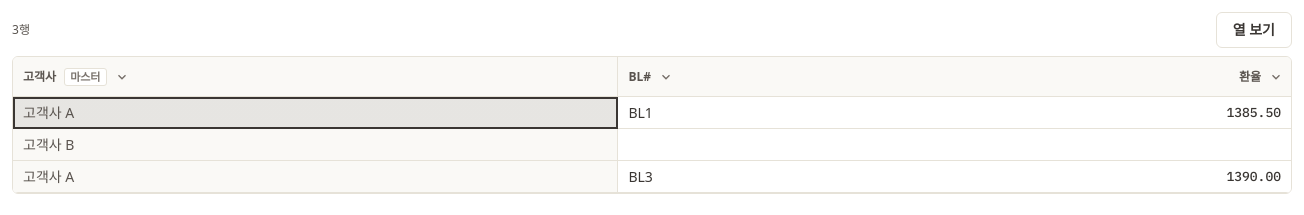
읽을 수 없는 값이면 저장하지 않고 이유를 보여줘요. Esc는 취소예요
Double-click the cell "1385.50" at (1108, 113), box [925,97,1291,129]
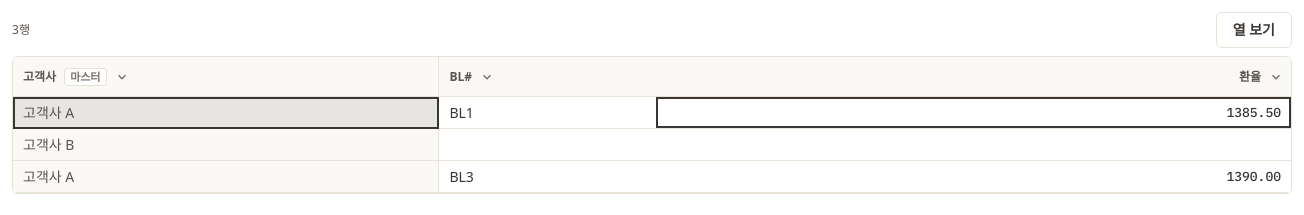
Replace the text in the field named "환율" with "많이" at (973, 112), box [656,97,1291,128]
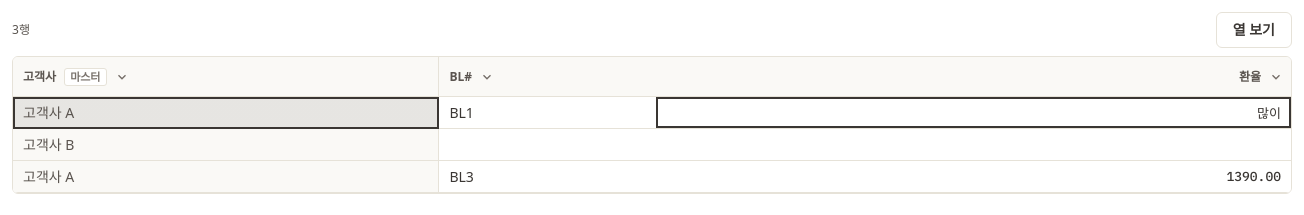
Press Enter in the field named "환율", box [656,97,1291,128]
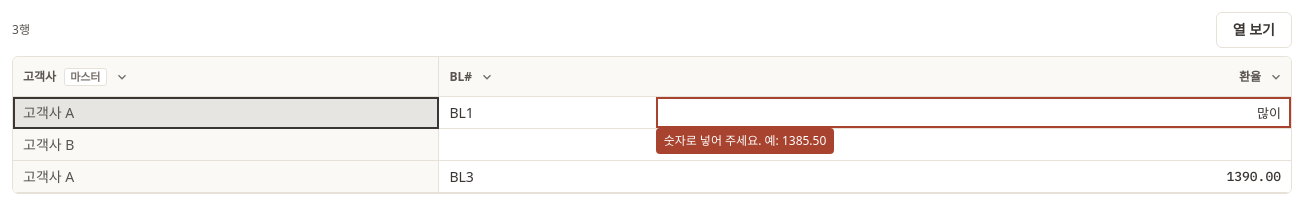
Expected: the message shows "숫자로 넣어 주세요", [664,132,826,149]
Press Escape in the field named "환율", box [656,97,1291,128]
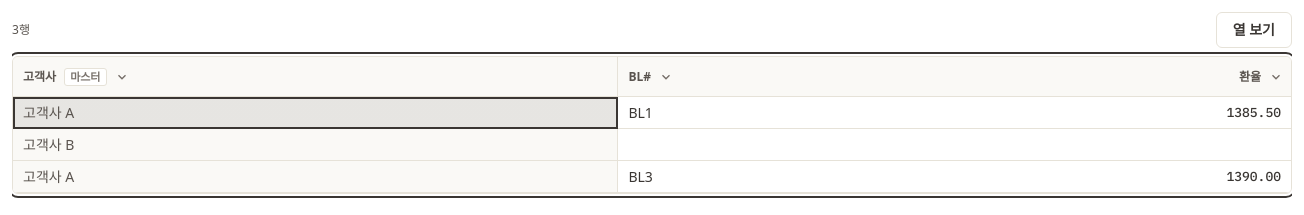
Expected: the field is gone
